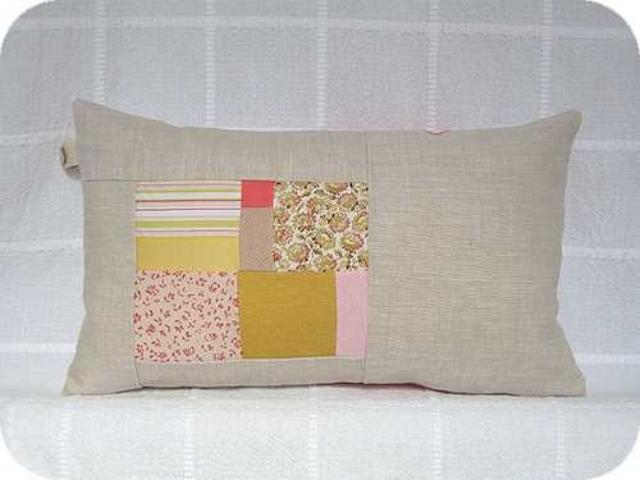pillow: (60, 98, 586, 398)
